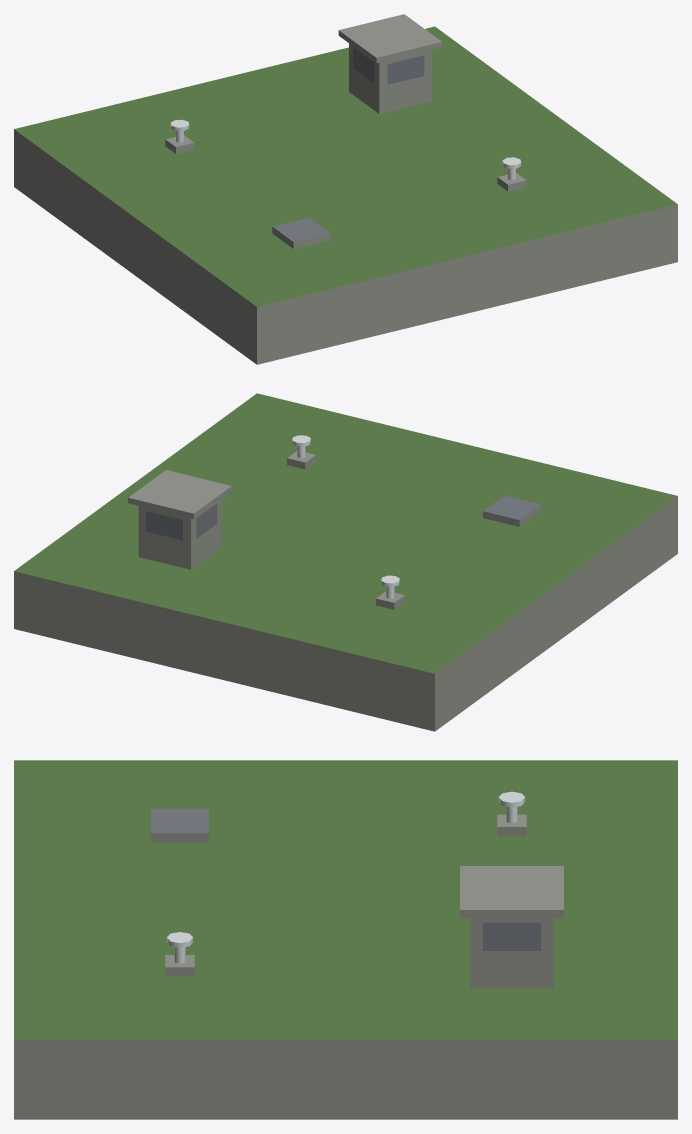
File: site_reservoir.fbx
3 renders of one model, top to bottom at view 1: azimuth 30°, elevation 25°; view 2: azimuth 150°, elevation 25°; view 3: azimuth 270°, elevation 25°, orthographic. The views are drawn at different scales.
Parts seen in each view (by area): view 1: a1063/0/site_reservoir; view 2: a1063/0/site_reservoir; view 3: a1063/0/site_reservoir.
Part boxes in pixels (x1,y1,x2,y2): a1063/0/site_reservoir: (14,14,677,364); a1063/0/site_reservoir: (14,393,677,731); a1063/0/site_reservoir: (14,760,677,1119).
Bounding box in the file's own units: 16 × 4.3 × 16.
